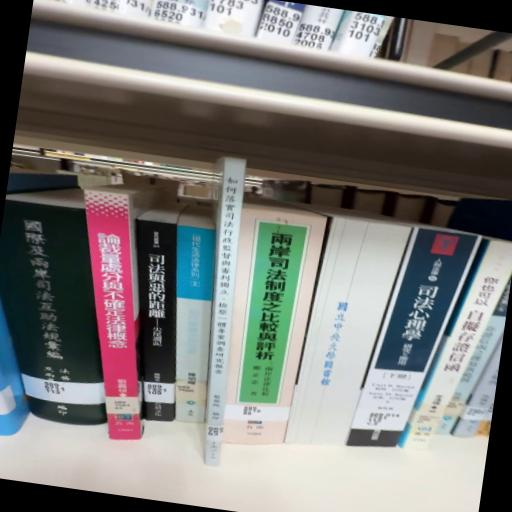backward: (286, 207, 412, 447)
book: (50, 188, 177, 448), (1, 191, 135, 433), (217, 200, 327, 411), (108, 211, 201, 428)
